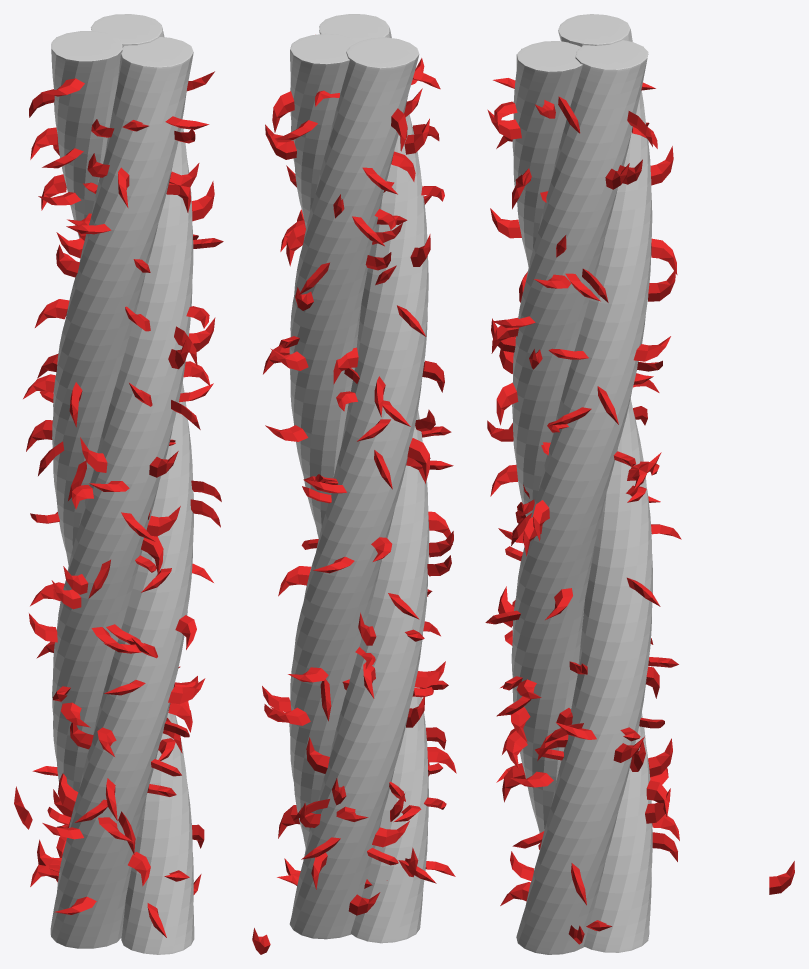
File: loza-1-1-1.fbx
3 views of the same model, side by side, from view 1: azimuth 30°, elevation 25°; view 2: azimuth 150°, elevation 25°; view 3: azimuth 270°, elevation 25° (orthographic).
Parts seen in each view (by area): view 1: loza-1-1; view 2: loza-1-1; view 3: loza-1-1.
Part boxes in pixels (box(x1,y1,x2,y2)): loza-1-1: box(14, 14, 223, 954); loza-1-1: box(252, 14, 456, 954); loza-1-1: box(485, 14, 794, 954).
Size of the model in its own units: 24.87 by 126 by 39.92.
